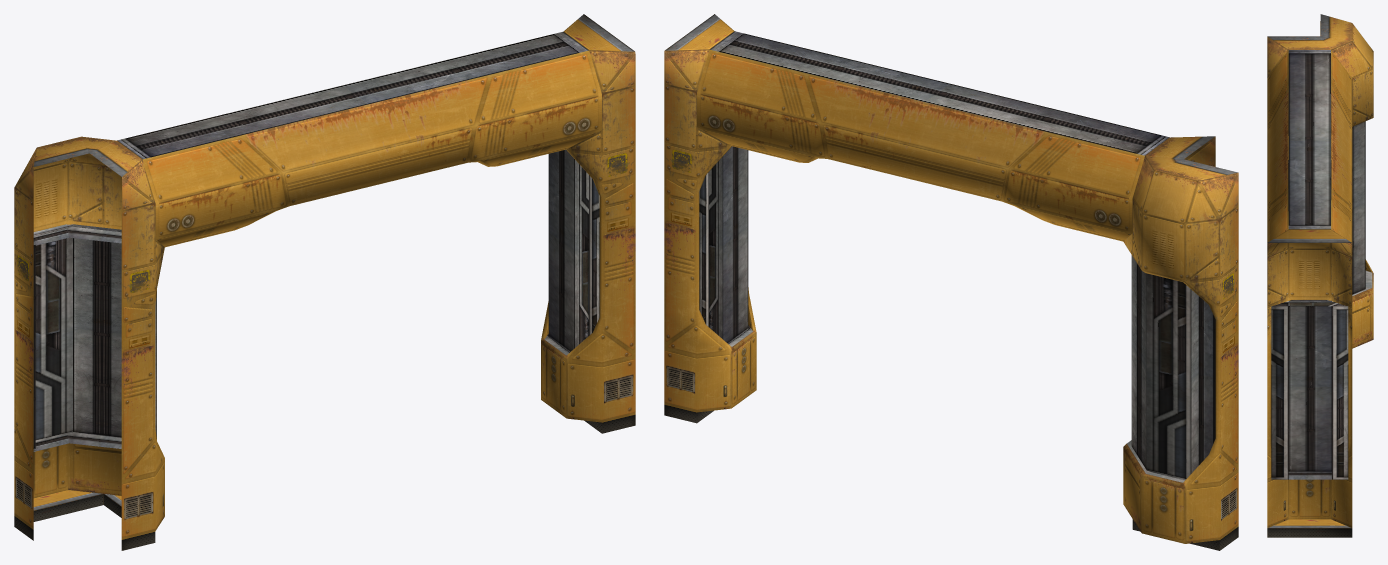
The model's file is ARC_ArchA_SideTurn01.FBX.
3 renders of one model, left to right at view 1: azimuth 30°, elevation 25°; view 2: azimuth 150°, elevation 25°; view 3: azimuth 270°, elevation 25°, orthographic. The views are drawn at different scales.
Parts seen in each view (by area): view 1: ARC_Pilar_CornerL001, ARC_Girder_Frontal004, SCF_Pilar_Basic012; view 2: ARC_Girder_Frontal004, ARC_Pilar_CornerL001, SCF_Pilar_Basic012; view 3: SCF_Pilar_Basic012, ARC_Girder_Frontal004, ARC_Pilar_CornerL001.
Boxes of the visible parts, x1=… form: ARC_Pilar_CornerL001: x1=14, y1=136, x2=164, y2=550; ARC_Girder_Frontal004: x1=117, y1=31, x2=601, y2=247; SCF_Pilar_Basic012: x1=541, y1=14, x2=635, y2=433; ARC_Girder_Frontal004: x1=697, y1=31, x2=1169, y2=241; ARC_Pilar_CornerL001: x1=1123, y1=136, x2=1238, y2=550; SCF_Pilar_Basic012: x1=664, y1=14, x2=756, y2=423; SCF_Pilar_Basic012: x1=1267, y1=229, x2=1352, y2=537; ARC_Girder_Frontal004: x1=1267, y1=50, x2=1352, y2=242; ARC_Pilar_CornerL001: x1=1267, y1=14, x2=1373, y2=348.
Bounding box in the file's own units: 638 × 400 × 125.
1 material, 1 textured.
